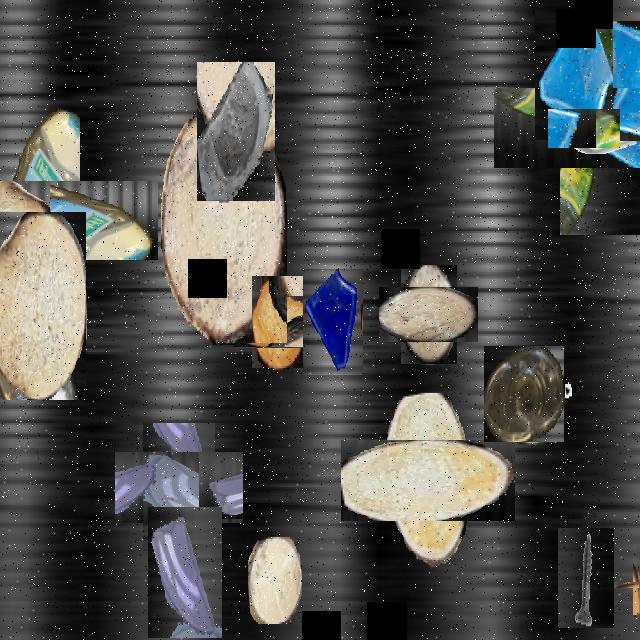glass: (197, 62, 275, 201), (535, 2, 613, 140), (129, 437, 229, 537), (148, 507, 222, 638), (303, 269, 363, 375)
metal: (558, 528, 614, 628), (556, 100, 612, 156), (565, 366, 603, 434)
plastic: (0, 141, 118, 299), (526, 54, 640, 201), (484, 347, 564, 442)
wood: (161, 109, 287, 343), (364, 416, 492, 544), (0, 212, 86, 400), (390, 276, 468, 353), (242, 286, 314, 358), (248, 537, 302, 622), (615, 563, 640, 606)
